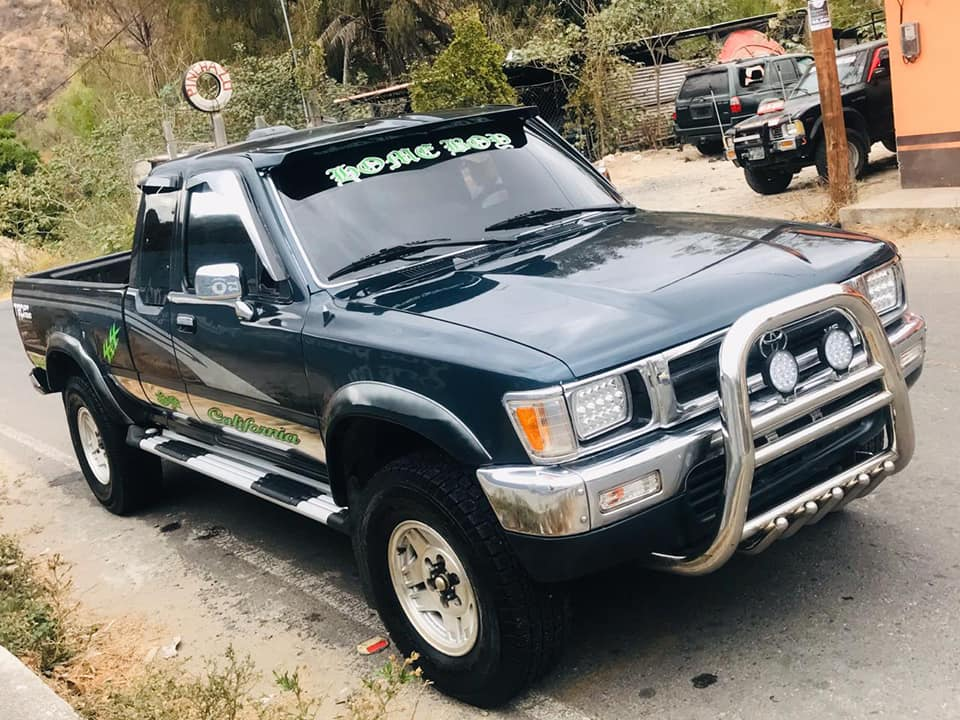pickup: (19, 113, 928, 700)
